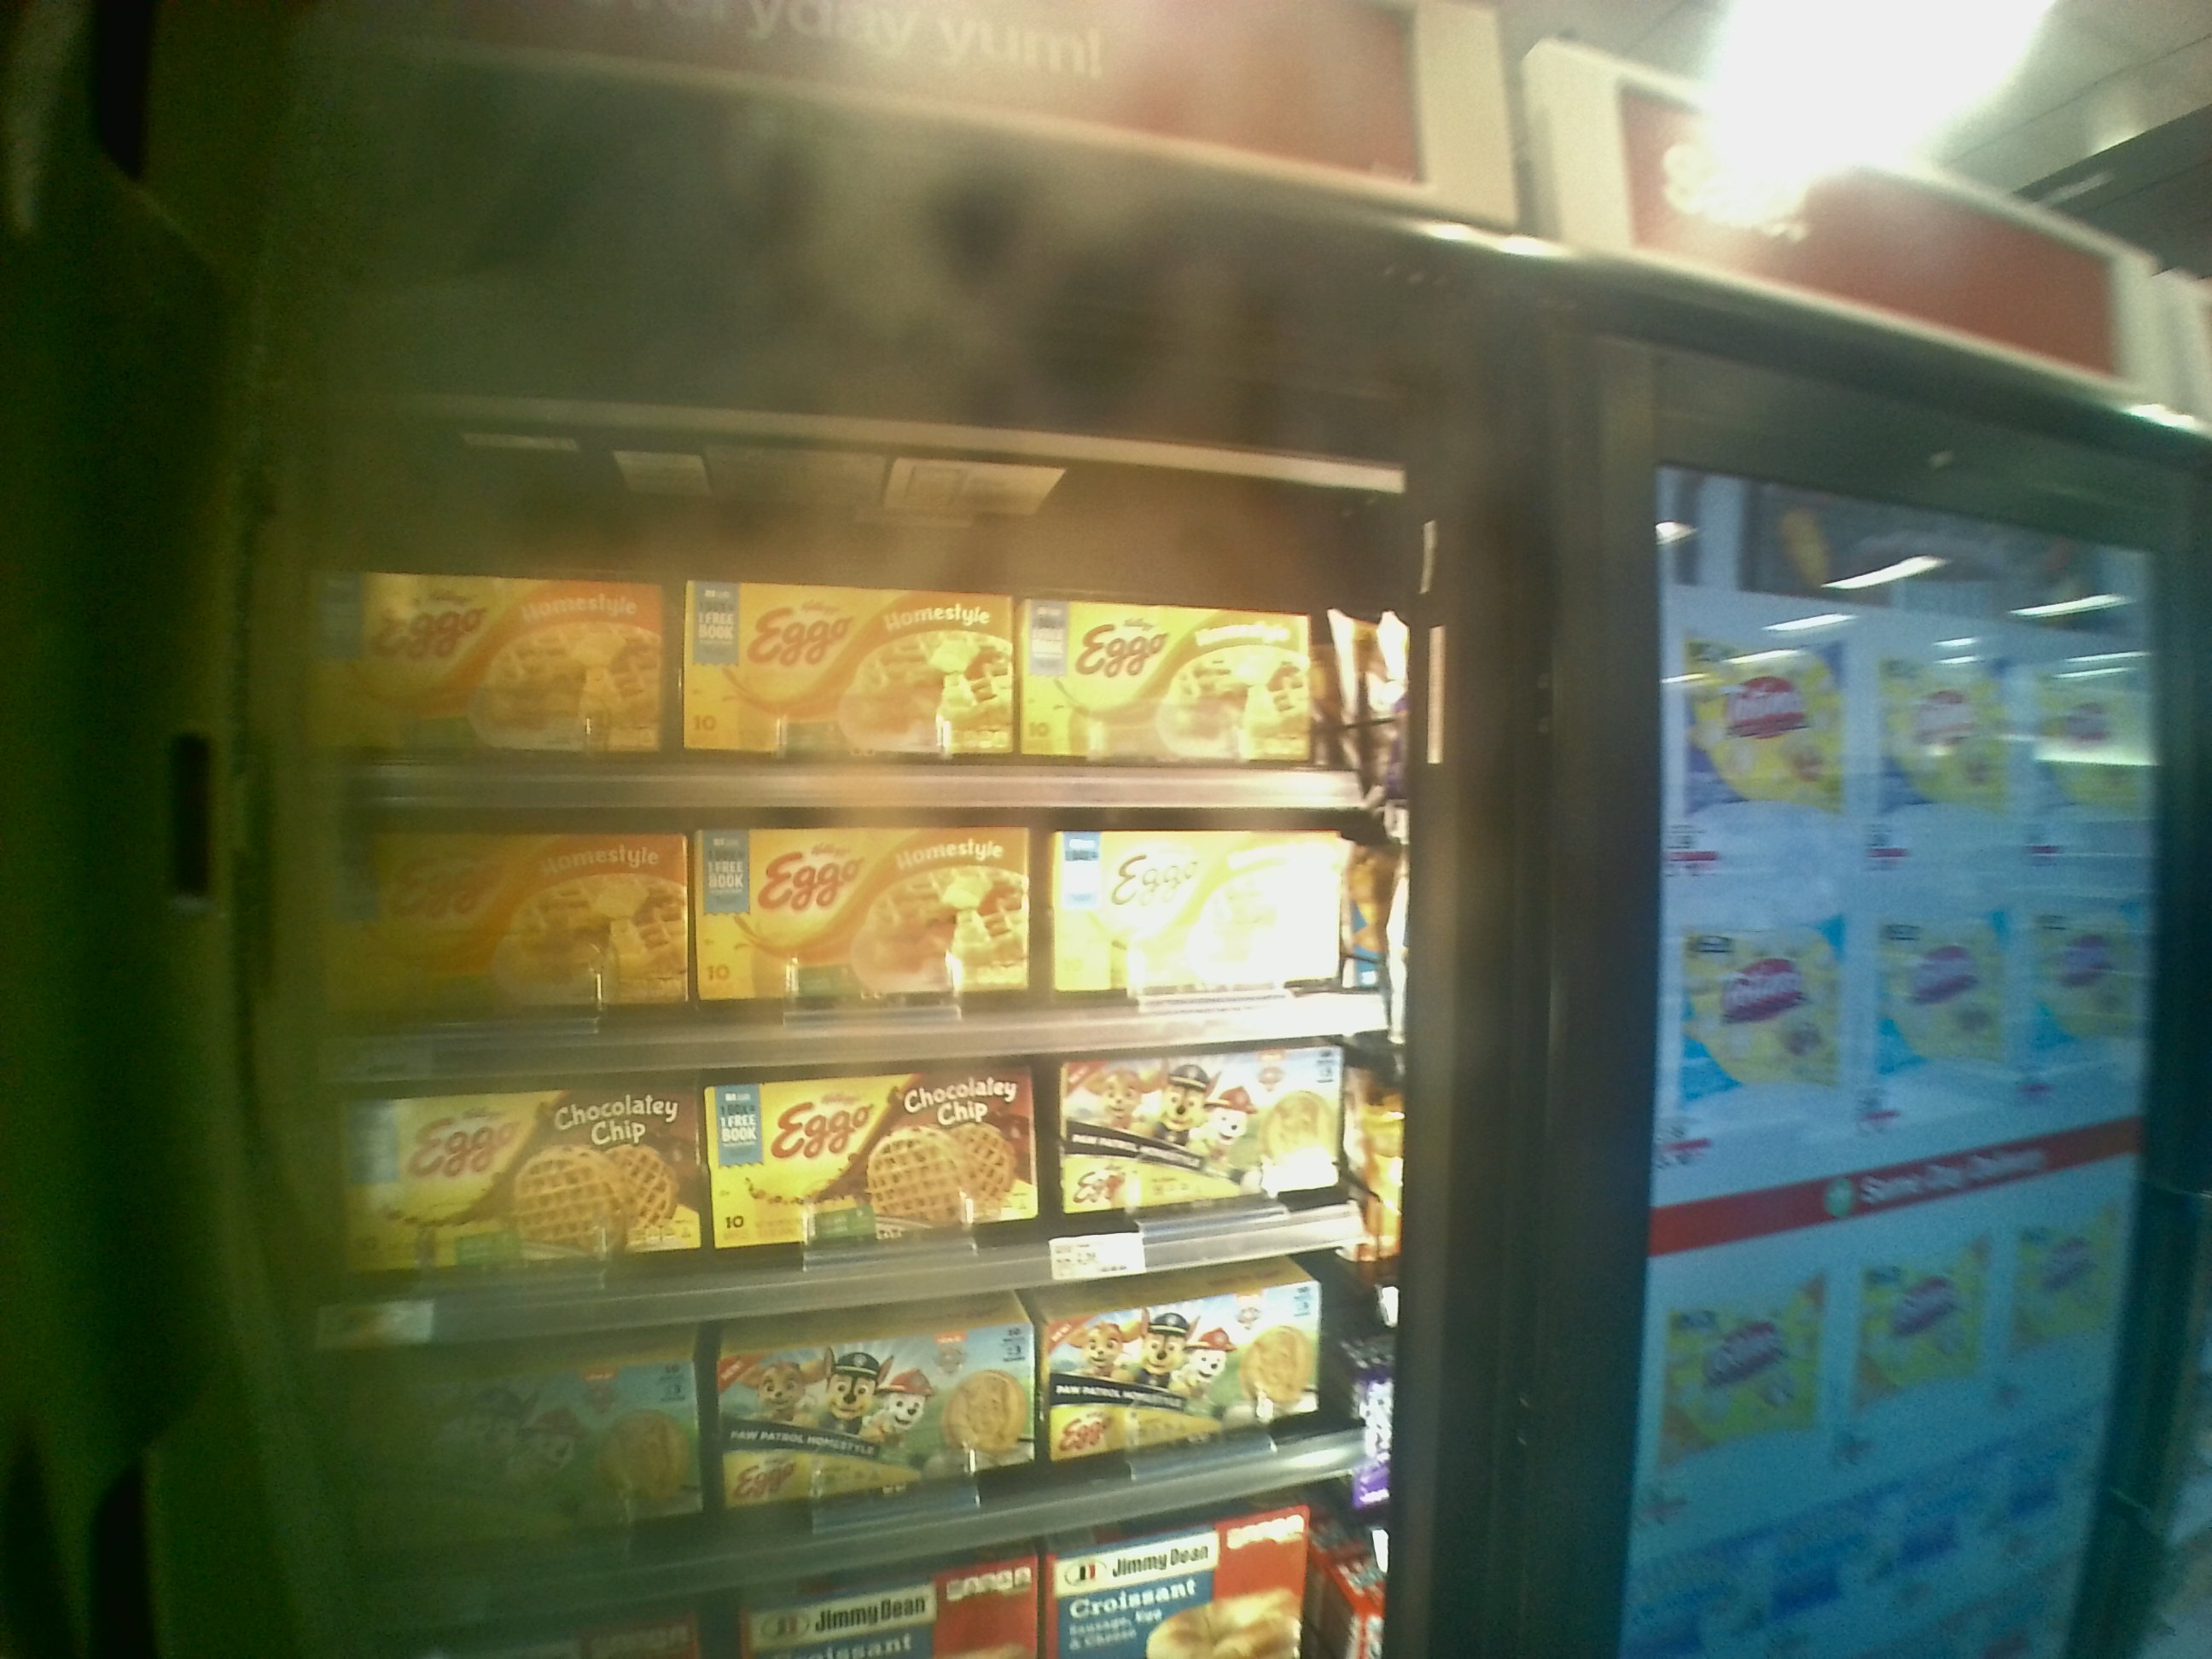shelf: (301, 446, 1428, 809), (301, 1037, 1388, 1345), (296, 803, 1416, 1068)
